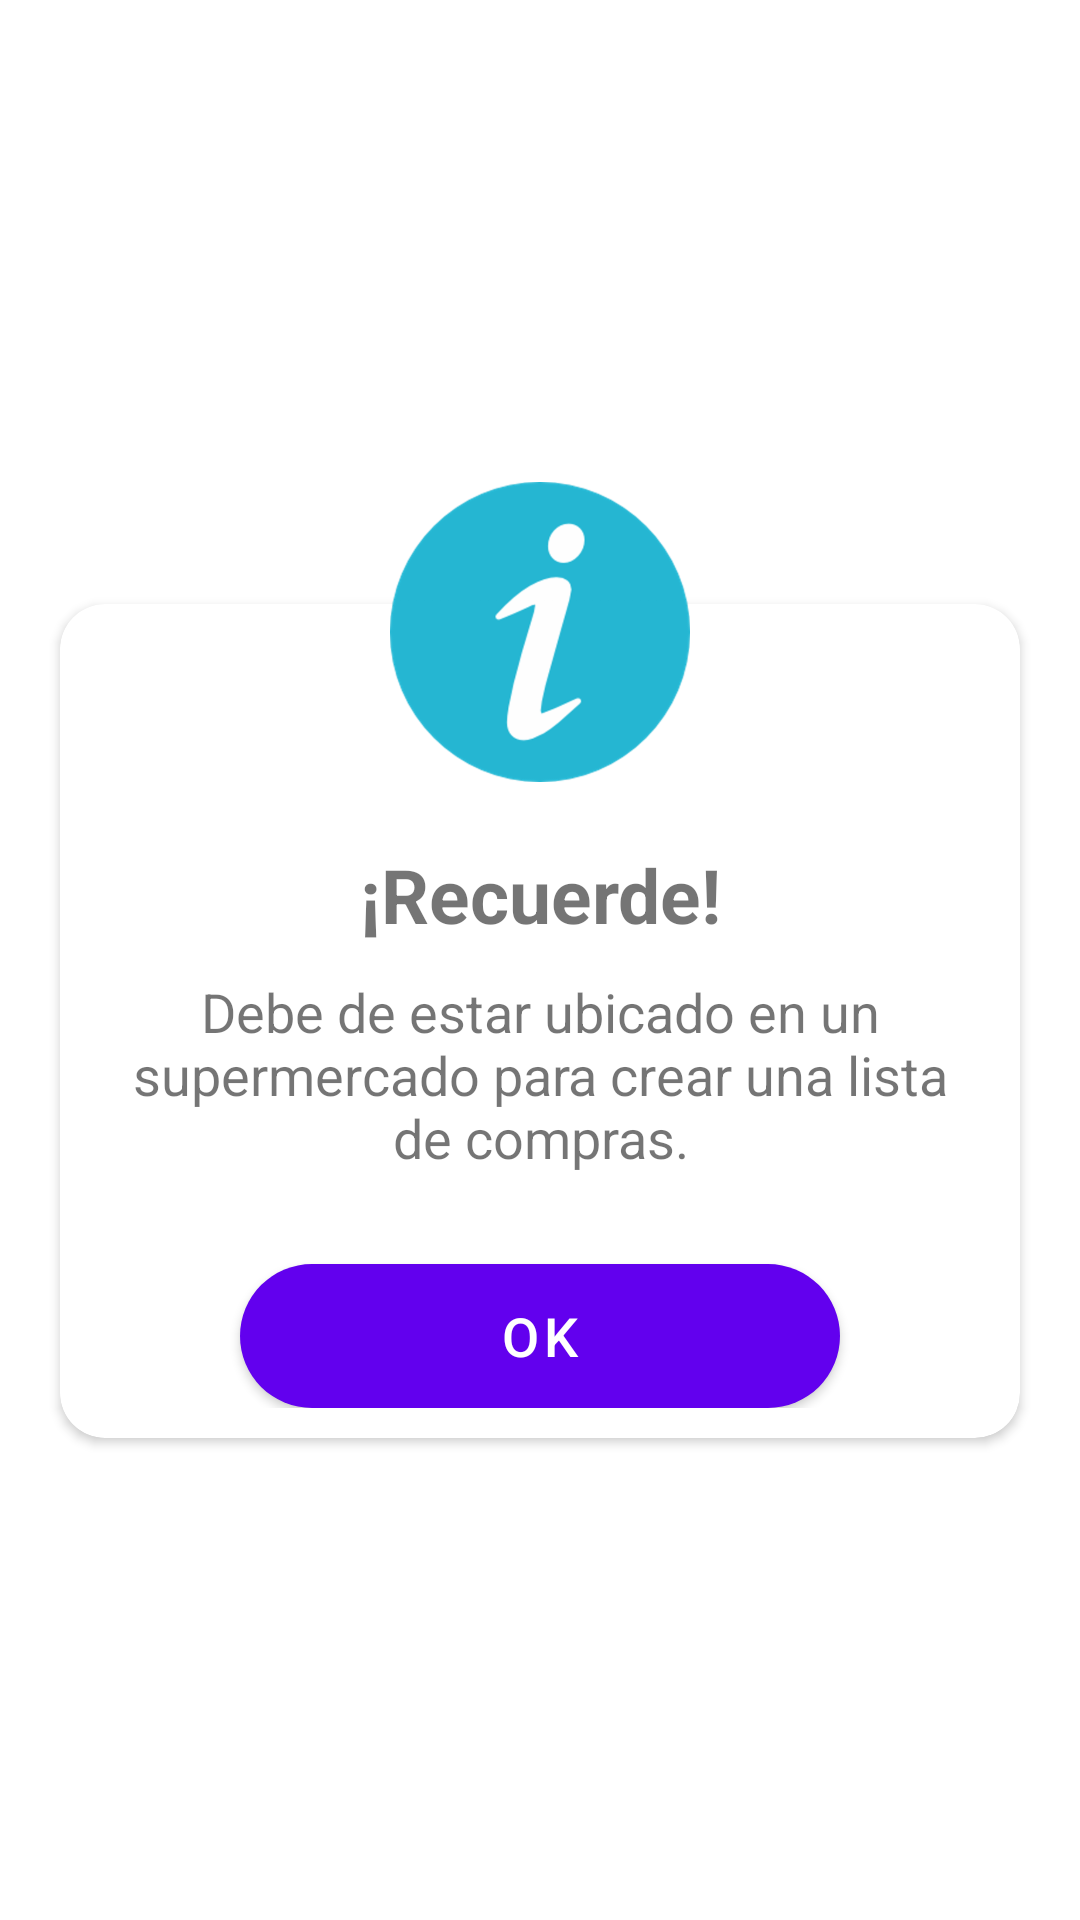

Icons on this 1080w x 1920h Android screen, each with its box as (x1,y1,x2,y2):
info: (390,482,690,782)
